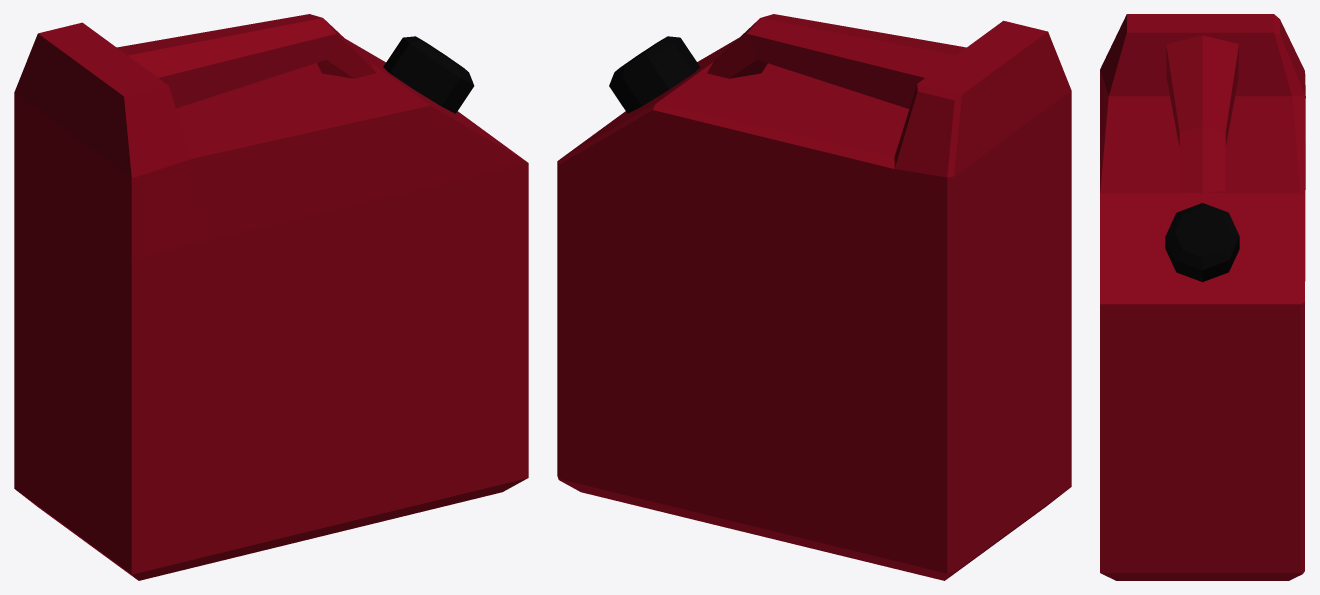
Rendered from Jerrycan.fbx.
The picture shows the model from 3 angles, left to right: view 1: azimuth 30°, elevation 25°; view 2: azimuth 150°, elevation 25°; view 3: azimuth 270°, elevation 25°; orthographic projection. The views are drawn at different scales.
Visible parts, largest first — view 1: Jerrycan; view 2: Jerrycan; view 3: Jerrycan.
Boxes of the visible parts, x1,y1,x2,y2 form: Jerrycan: [14, 14, 528, 580]; Jerrycan: [557, 14, 1071, 580]; Jerrycan: [1100, 14, 1305, 580].
Size of the model in its own units: 22.32 by 25.92 by 11.73.
